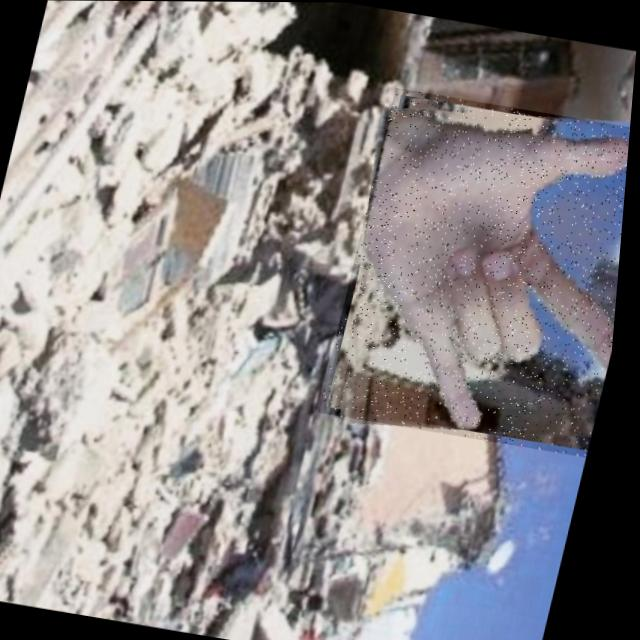Person in Rubble: (321, 87, 635, 457)
